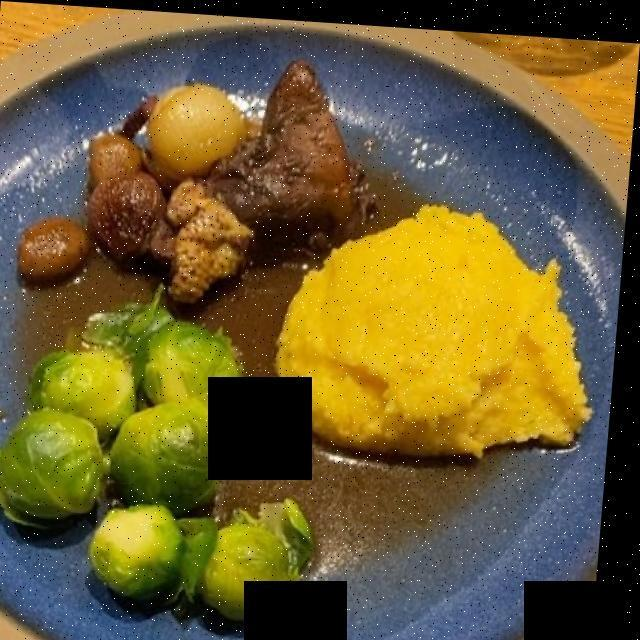brussel-sprouts: (0, 310, 311, 622)
chicken: (76, 73, 376, 305)
onion: (133, 92, 229, 182)
polenta: (298, 223, 590, 450)
